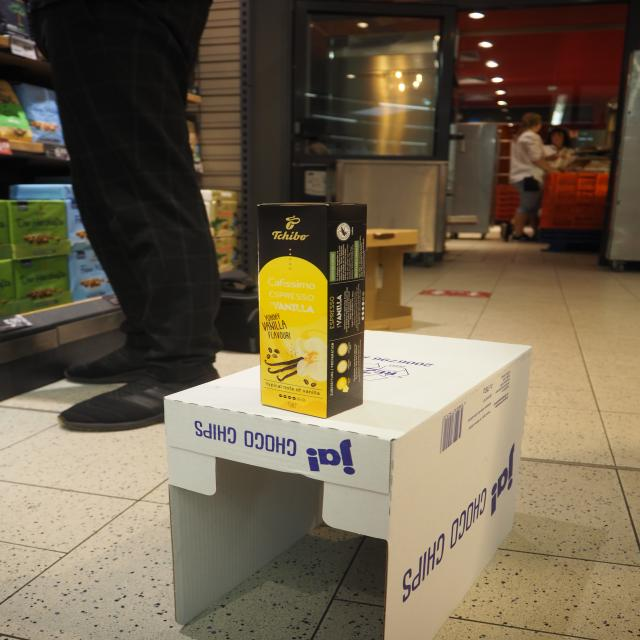Simo Es Vanilla: (257, 202, 333, 421)
